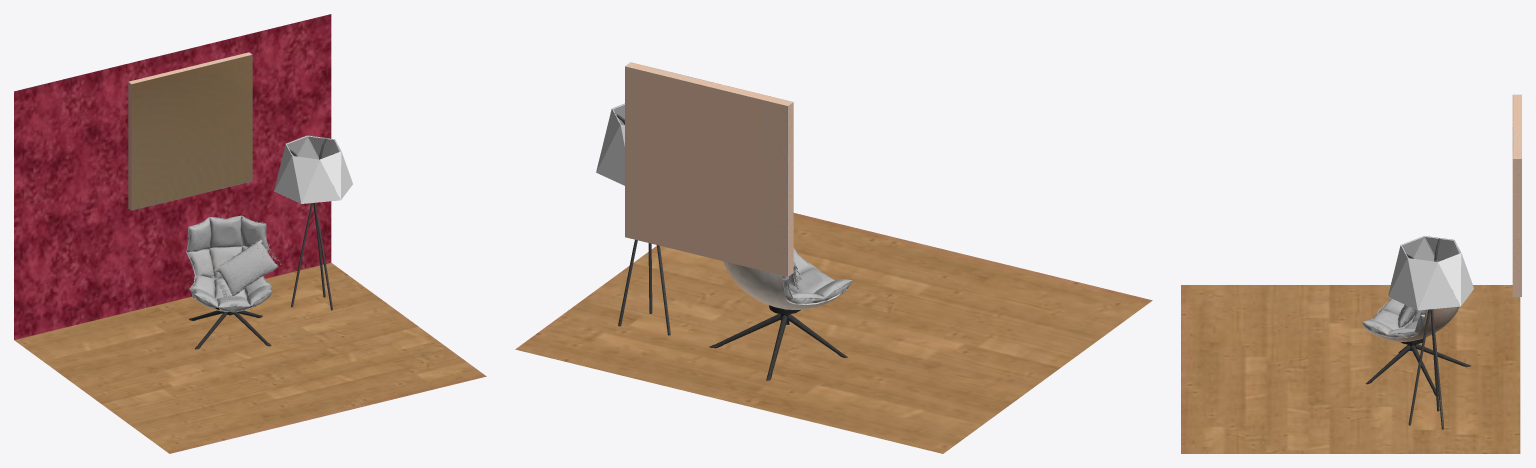
File: my_small_room4.glb
3 renders of one model, left to right at view 1: azimuth 30°, elevation 25°; view 2: azimuth 150°, elevation 25°; view 3: azimuth 270°, elevation 25°, orthographic. The views are drawn at different scales.
Visible parts, largest first — view 1: Sofa, Room, Floor_Lamp; view 2: Sofa, Floor_Lamp; view 3: Sofa, Floor_Lamp.
Boxes of the visible parts, x1,y1,x2,y2 form: Sofa: (14, 52, 486, 453); Room: (14, 14, 331, 339); Floor_Lamp: (274, 135, 352, 203); Sofa: (515, 62, 1152, 453); Floor_Lamp: (596, 103, 624, 185); Sofa: (1181, 94, 1521, 453); Floor_Lamp: (1388, 236, 1473, 310).
Size of the model in its own units: 6.29 by 4.71 by 5.37.
Materials: 3 (2 with a texture image).
